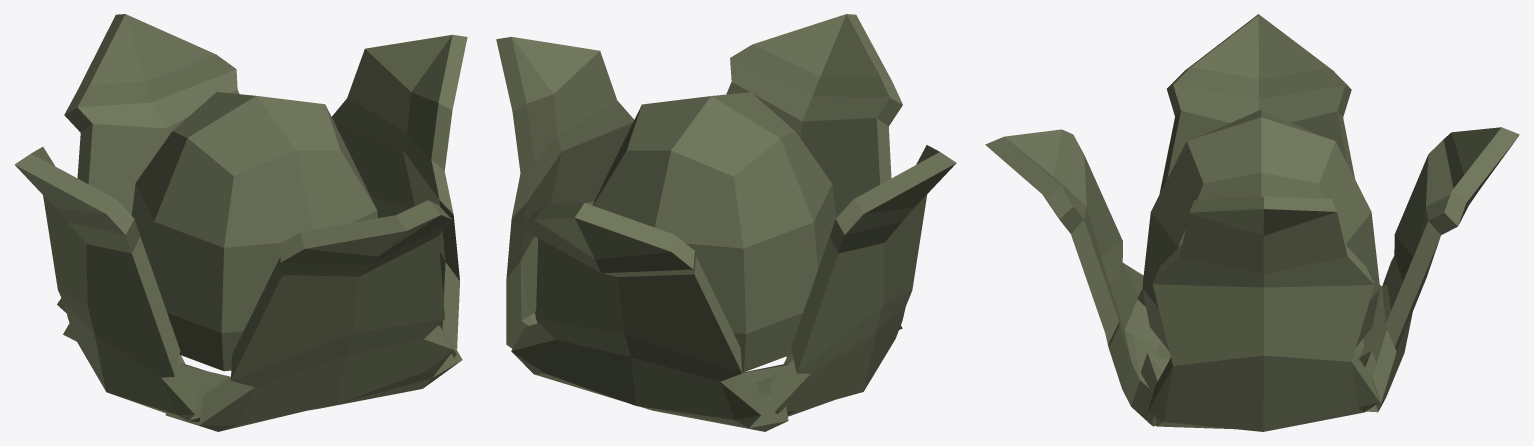
The model's file is crop-lettuce-3.glb.
3 views of the same model, side by side, from view 1: azimuth 30°, elevation 25°; view 2: azimuth 150°, elevation 25°; view 3: azimuth 270°, elevation 25° (orthographic). The views are drawn at different scales.
Parts seen in each view (by area): view 1: Plane_007; view 2: Plane_007; view 3: Plane_007.
Part boxes in pixels (x1,y1,x2,y2): Plane_007: (14, 14, 467, 431); Plane_007: (496, 14, 956, 431); Plane_007: (985, 14, 1519, 431).
Size of the model in its own units: 0.6231 by 0.3816 by 0.6764.
